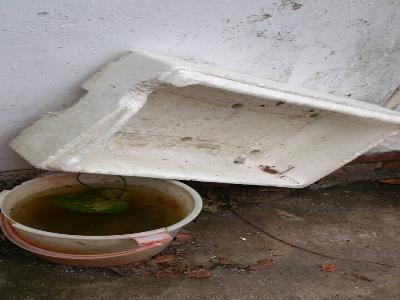bowl: (1, 168, 204, 266)
styrofoam: (7, 46, 400, 191)
